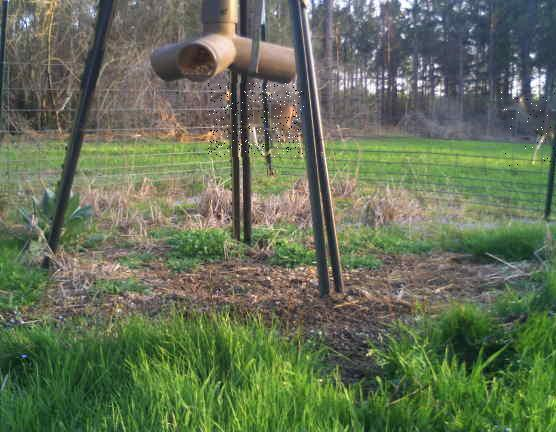Deer: (209, 83, 305, 157), (501, 92, 556, 169)
